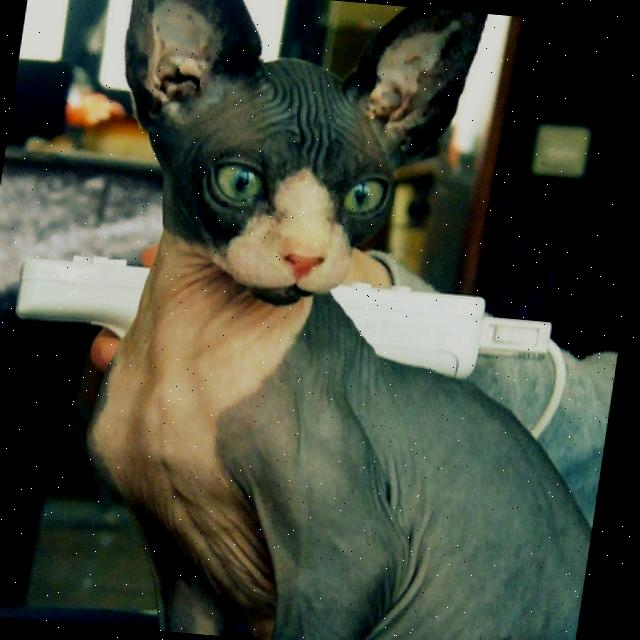Sphynx: (43, 0, 640, 640)
